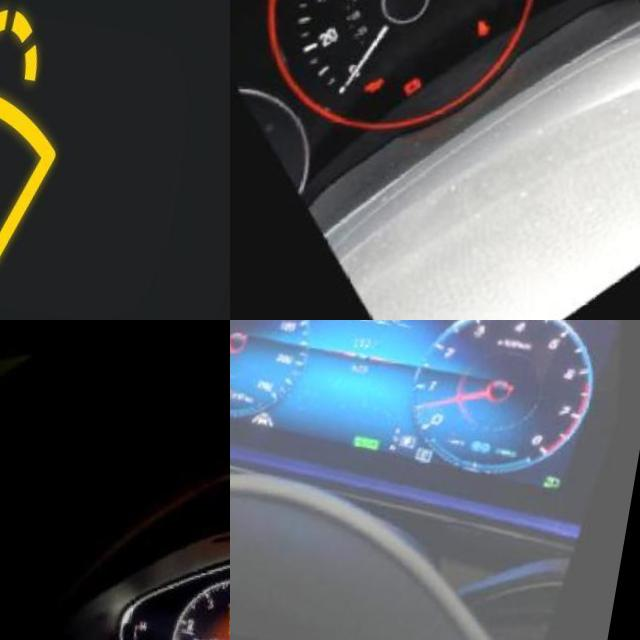Low fuel level: (232, 376, 250, 393)
Washer Fluid: (0, 0, 87, 304)
